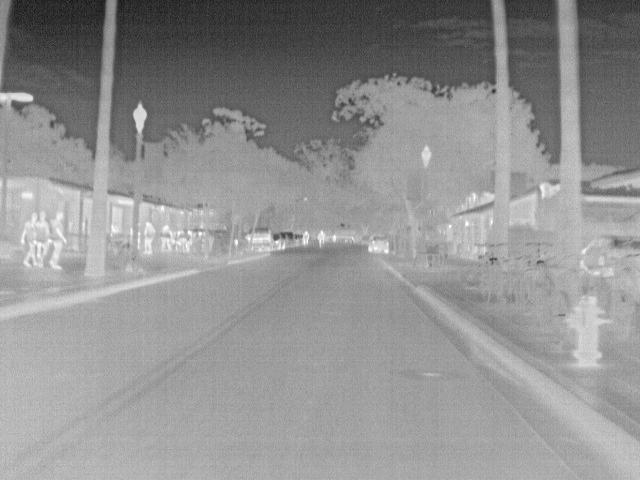car: (245, 225, 274, 254), (366, 234, 389, 257), (271, 234, 285, 252), (285, 230, 295, 248)
person: (46, 208, 69, 270), (20, 212, 43, 264), (34, 209, 50, 260), (141, 218, 156, 260), (159, 219, 173, 253), (182, 228, 195, 252), (316, 228, 326, 248), (301, 228, 310, 246)
